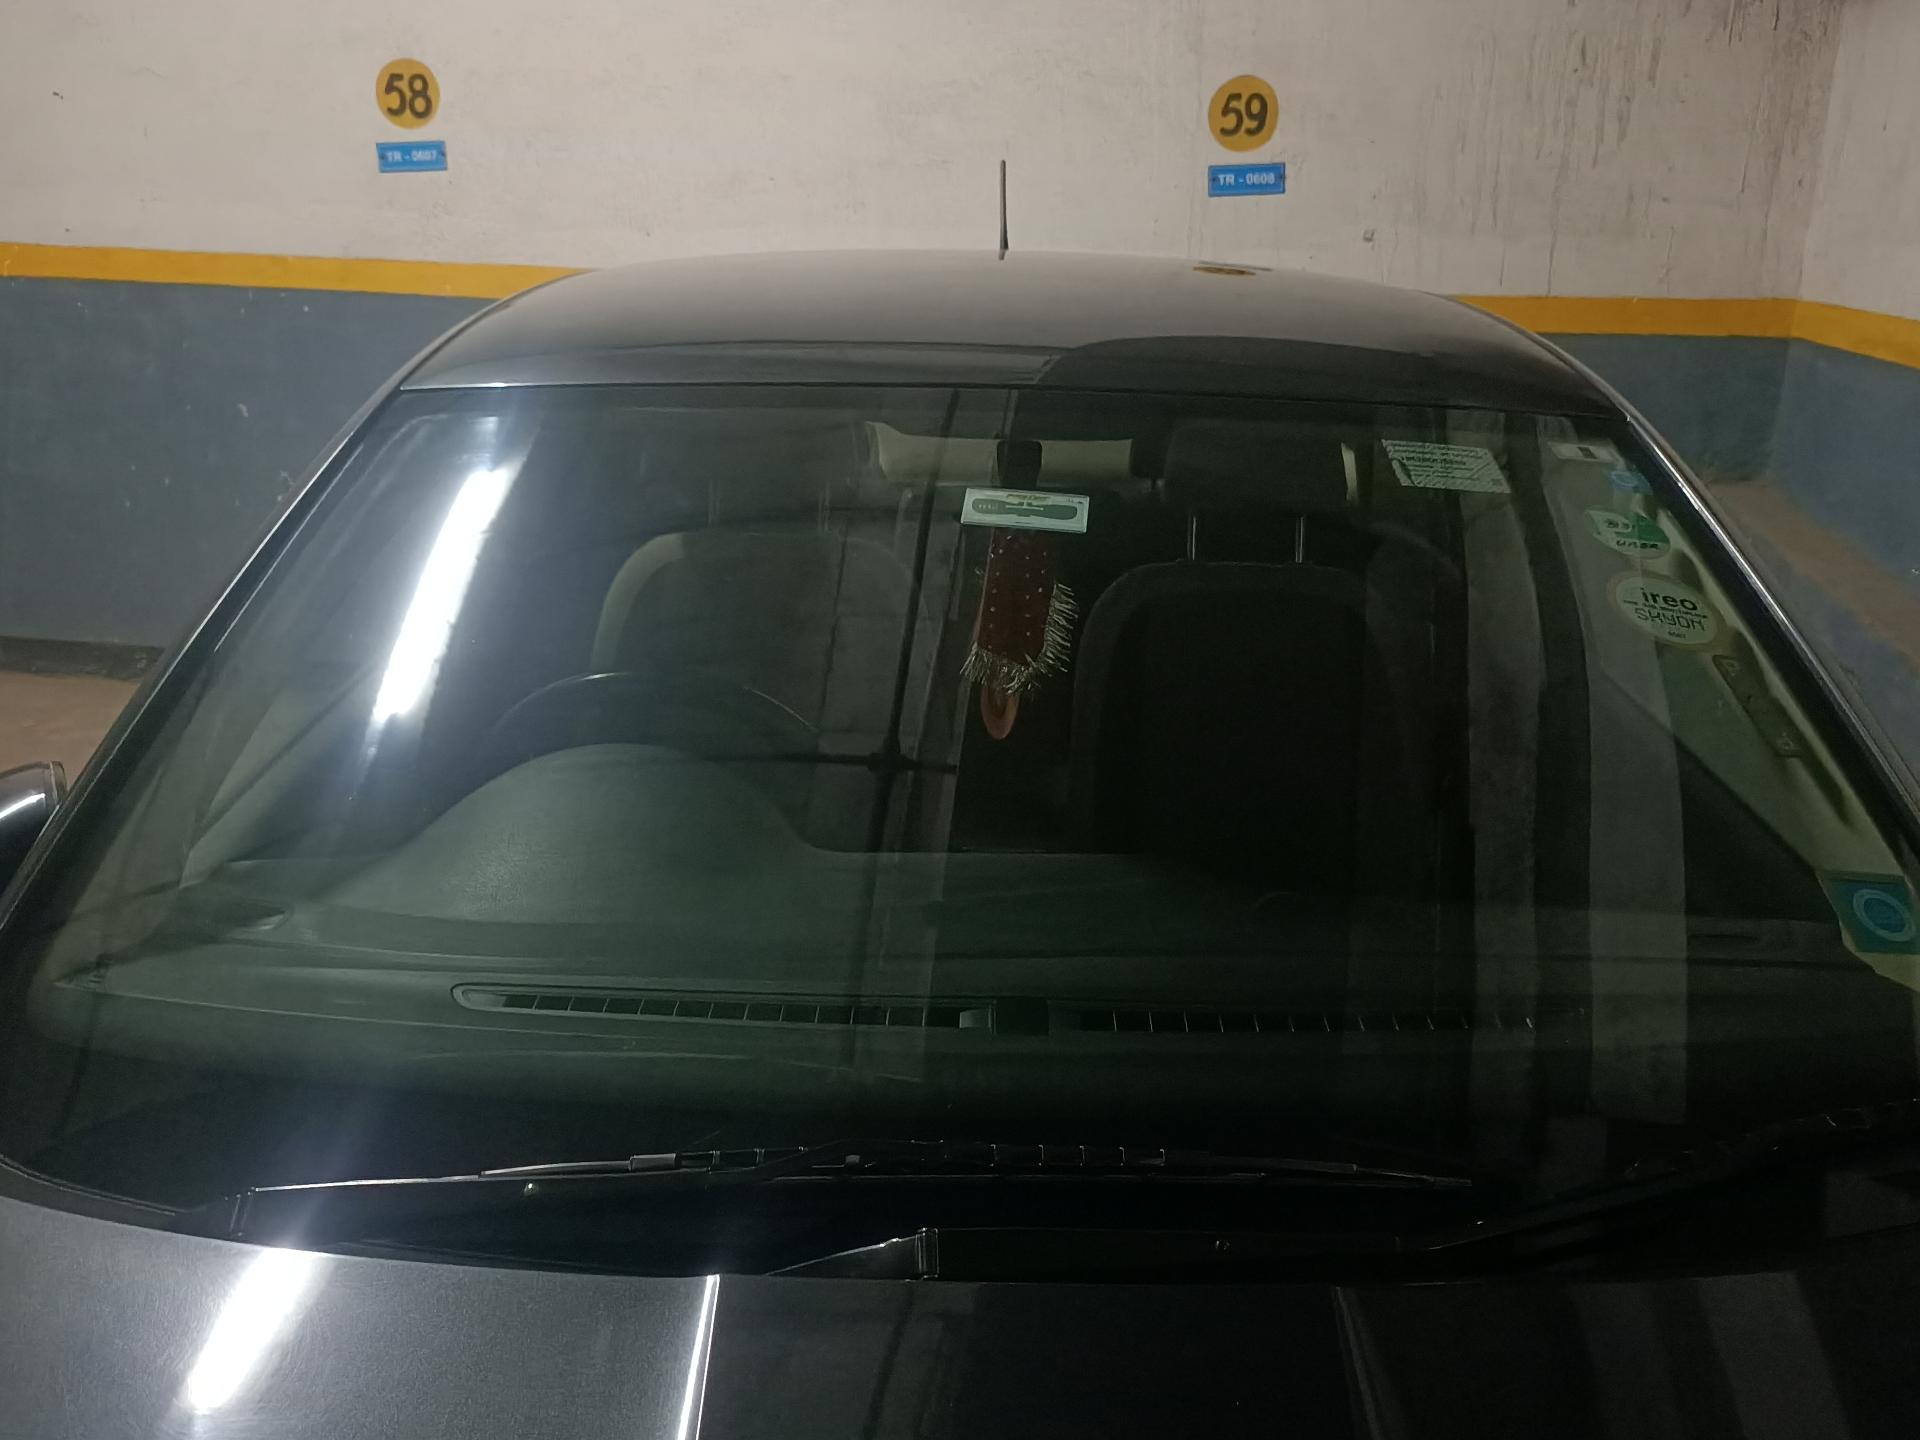FastTag: (955, 478, 1097, 542)
not a FastTag: (1785, 842, 1920, 968), (1586, 564, 1746, 664), (1367, 424, 1520, 506), (1567, 494, 1673, 569), (1543, 430, 1646, 492)
